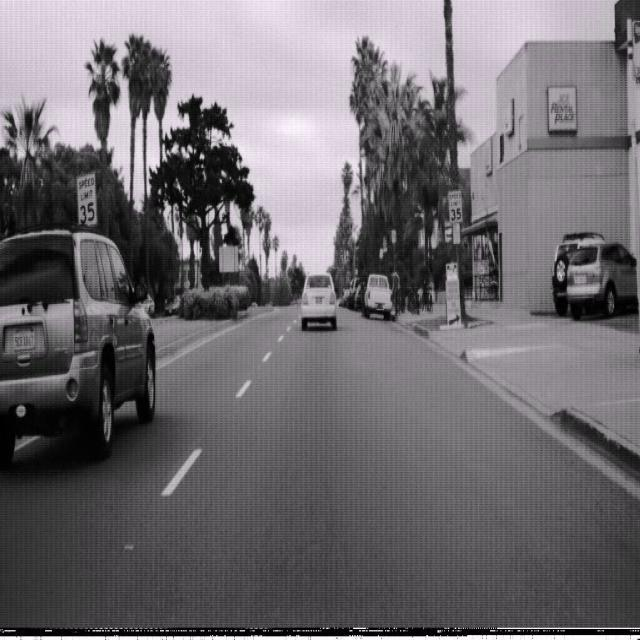speedLimit35: (76, 169, 98, 229), (448, 188, 463, 225)
